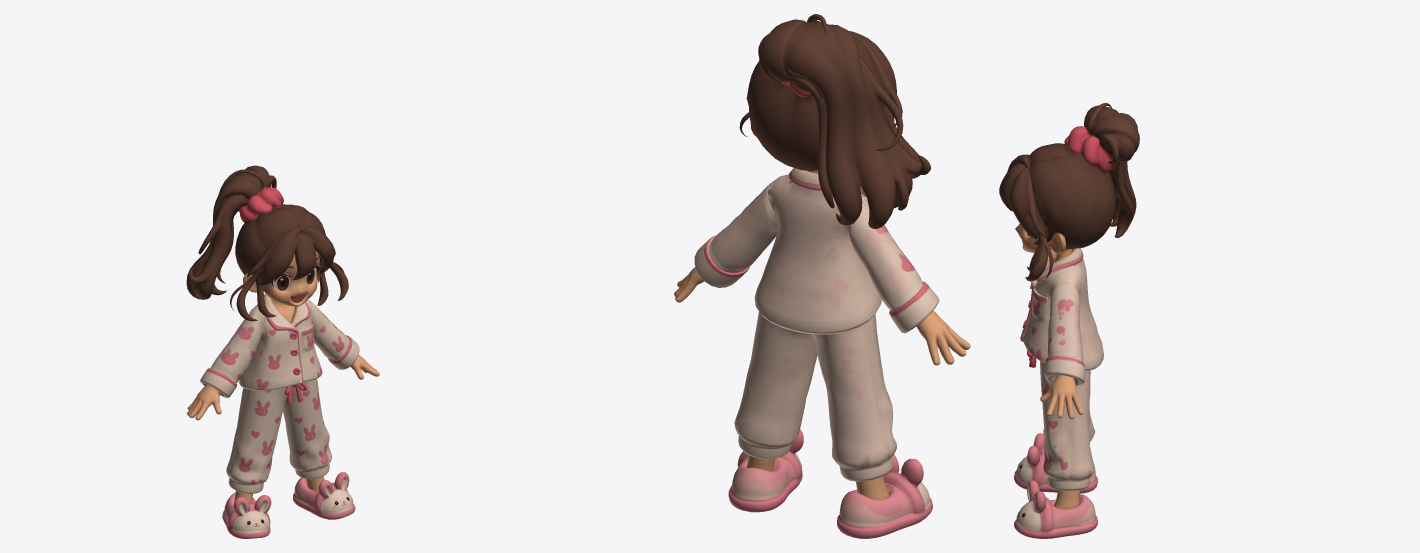
File: girl.glb
3 renders of one model, left to right at view 1: azimuth 30°, elevation 25°; view 2: azimuth 150°, elevation 25°; view 3: azimuth 270°, elevation 25°, orthographic. The views are drawn at different scales.
Parts seen in each view (by area): view 1: tripo_82dc8d30_19aa_4f3e_8ae8_363734315a09; view 2: tripo_82dc8d30_19aa_4f3e_8ae8_363734315a09; view 3: tripo_82dc8d30_19aa_4f3e_8ae8_363734315a09.
Boxes of the visible parts, box(x1,y1,x2,y2) form: tripo_82dc8d30_19aa_4f3e_8ae8_363734315a09: box(186, 165, 379, 538); tripo_82dc8d30_19aa_4f3e_8ae8_363734315a09: box(674, 14, 970, 538); tripo_82dc8d30_19aa_4f3e_8ae8_363734315a09: box(999, 103, 1139, 538).
Size of the model in its own units: 0.6919 by 0.9995 by 0.8667.
Materials: 1 (1 with a texture image).
